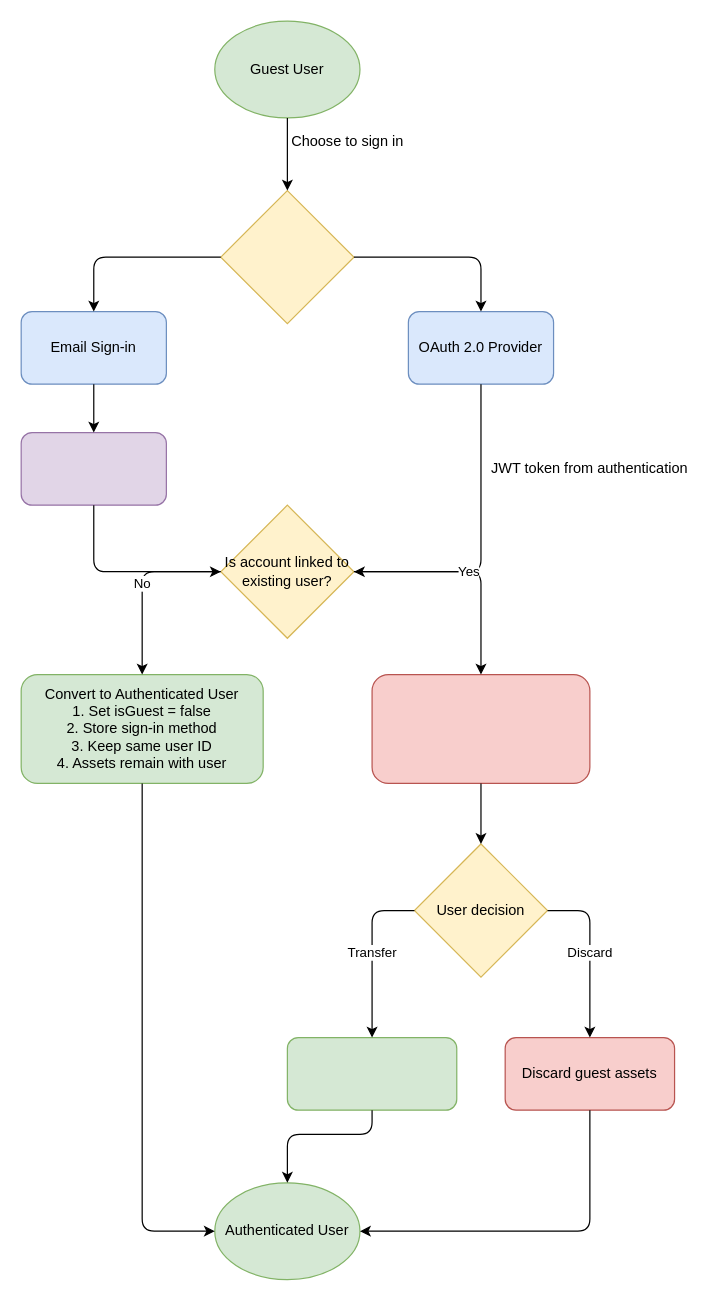
Image size: 720x1301. Some labels were removed from this diagram. Each missing label, with the box of its shape:
Authentication Method: (220, 189, 354, 324)
MS generates JWT token added to sign-in link: (20, 431, 166, 505)
Redirect to transfer page with JWT token as query parameter: (371, 673, 590, 783)
Transfer guest assets to existing account: (286, 1036, 457, 1110)
